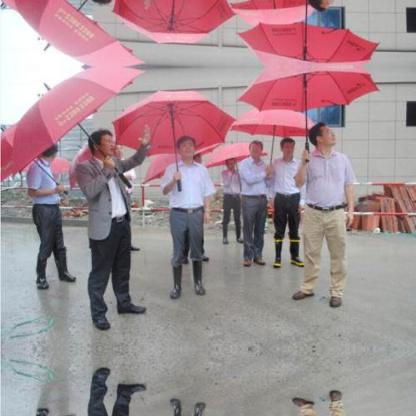No Safety Helmet: (84, 127, 123, 167), (310, 120, 339, 156), (173, 133, 201, 162), (276, 135, 300, 161), (246, 139, 267, 163)
